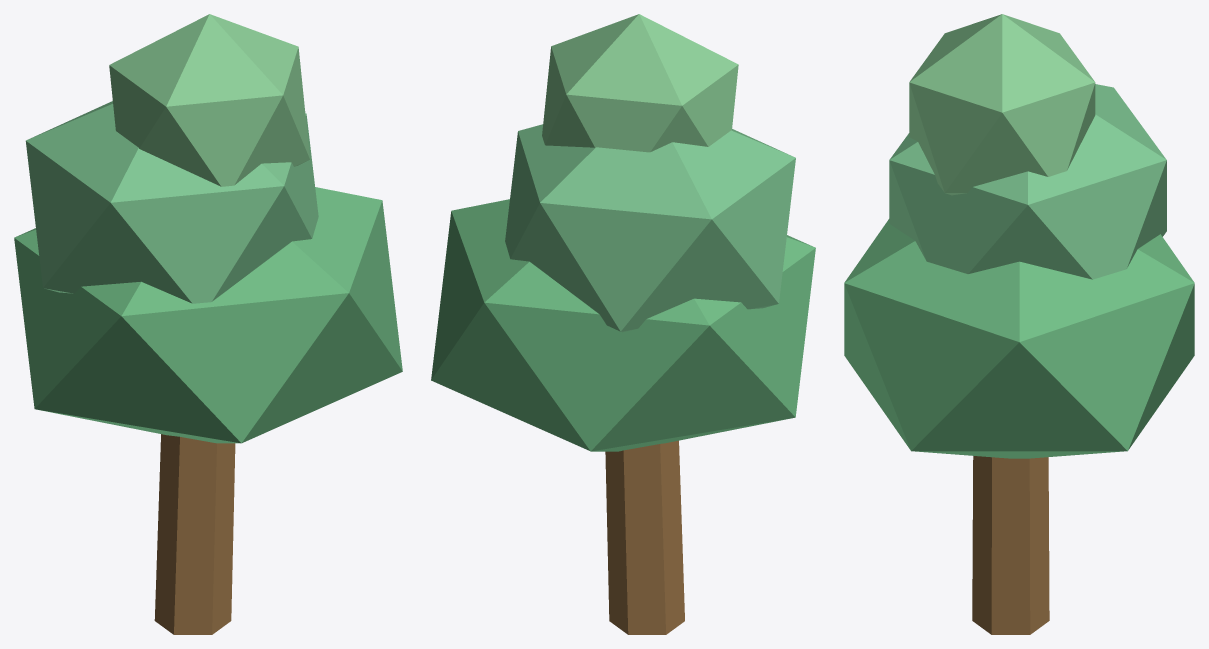
File: tree_deciduous.glb
The picture shows the model from 3 angles, left to right: view 1: azimuth 30°, elevation 25°; view 2: azimuth 150°, elevation 25°; view 3: azimuth 270°, elevation 25°; orthographic projection.
Visible parts, largest first — view 1: Canopy_0, Canopy_1, Canopy_2, Trunk; view 2: Canopy_0, Canopy_1, Canopy_2, Trunk; view 3: Canopy_0, Canopy_1, Canopy_2, Trunk.
Part boxes in pixels (x1,y1,x2,y2): Canopy_0: (14, 187, 402, 443); Canopy_1: (25, 101, 318, 303); Canopy_2: (109, 14, 309, 186); Trunk: (154, 434, 235, 634); Canopy_0: (431, 199, 815, 451); Canopy_1: (505, 124, 795, 332); Canopy_2: (542, 14, 738, 152); Trunk: (605, 440, 684, 634); Canopy_0: (844, 219, 1194, 458); Canopy_1: (889, 84, 1166, 279); Canopy_2: (909, 14, 1095, 195); Trunk: (972, 456, 1049, 634).
Bounding box in the file's own units: 0.4723 × 0.7875 × 0.4083.
